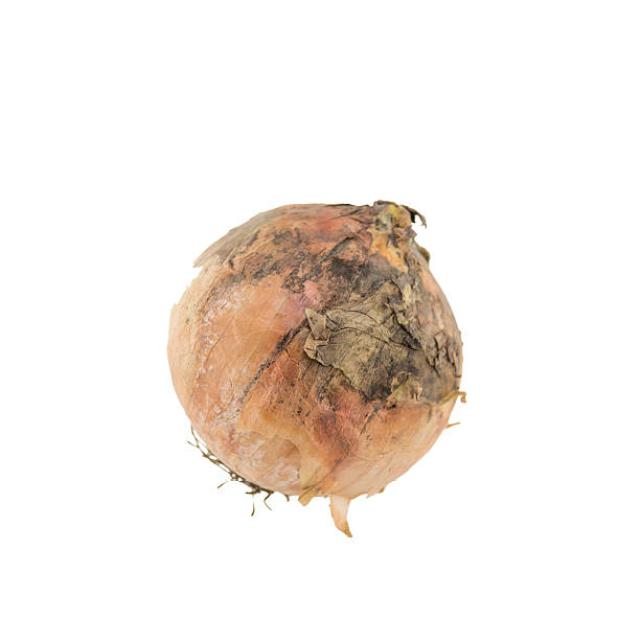rotten: (167, 174, 474, 640)
